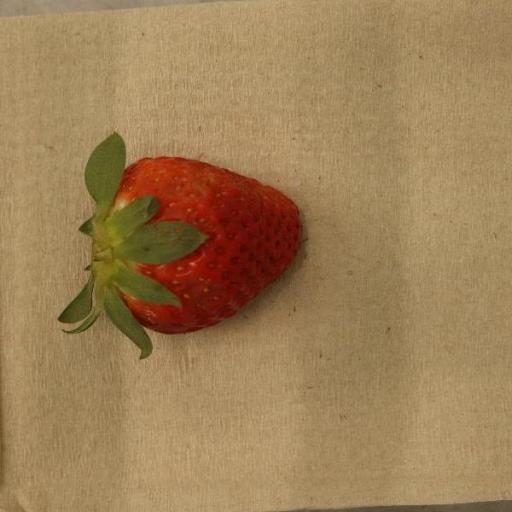Strawberry: (58, 133, 302, 360)
